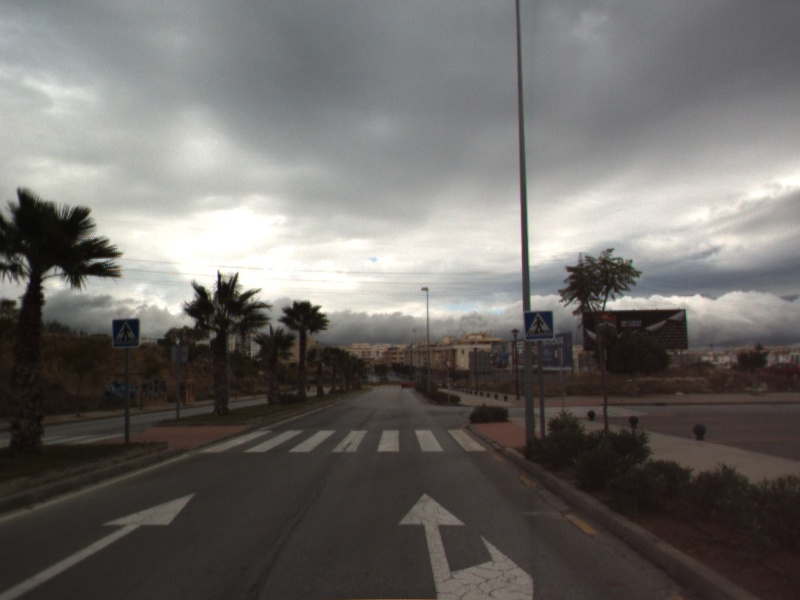STRAIGHT: (1, 491, 198, 600)
STRAIGHT_RIGHT: (396, 491, 536, 600)
